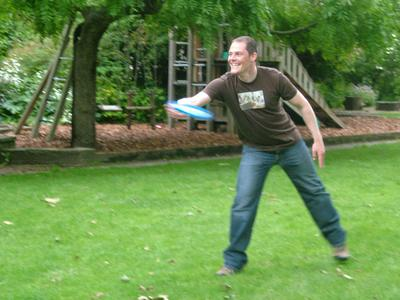person: (165, 36, 353, 278)
